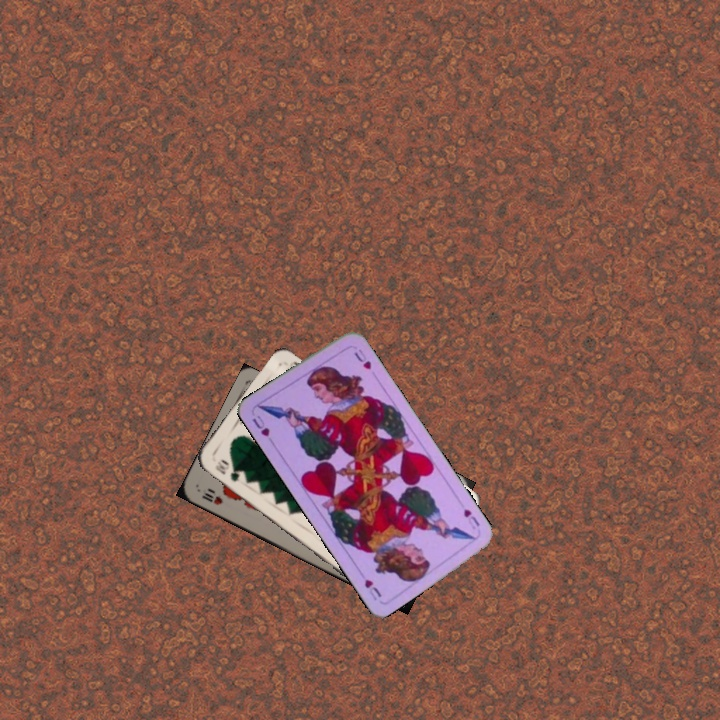G10: (211, 455, 242, 484)
H10: (198, 485, 225, 508)
HU: (248, 411, 272, 439), (459, 505, 482, 532)
